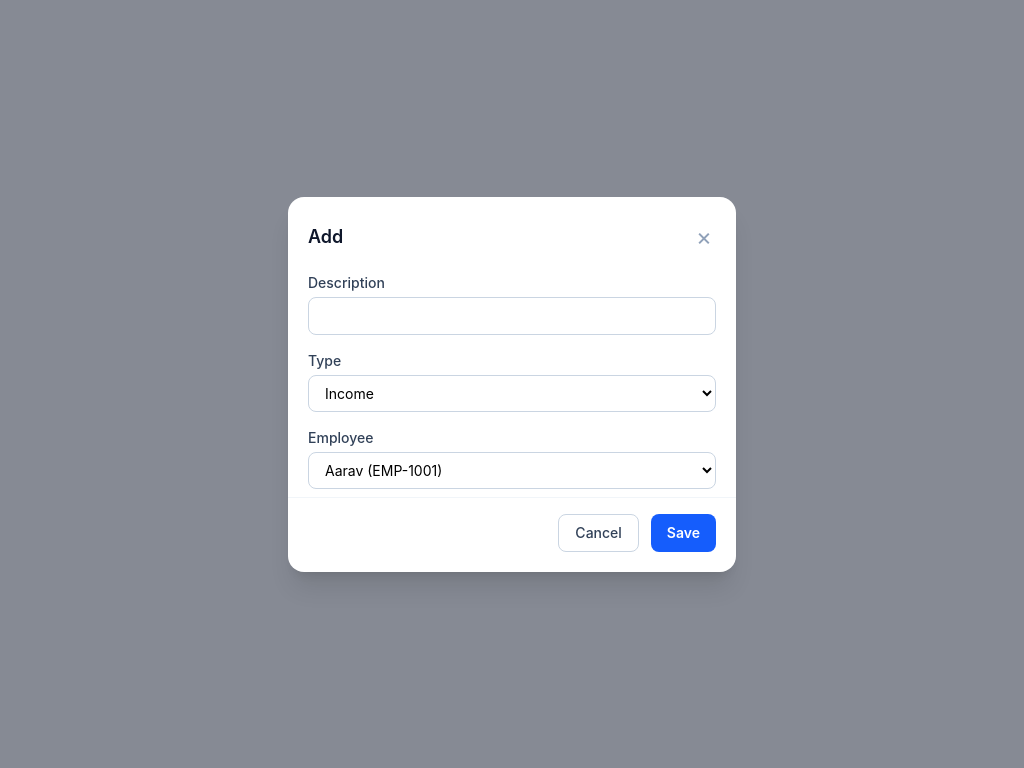
FormModal › keeps the dialog open and shows the server's error when saving fails
The image size is (1024, 768).
Type "x" into the field labelled "Description" at (512, 316), box [308,296,716,334]
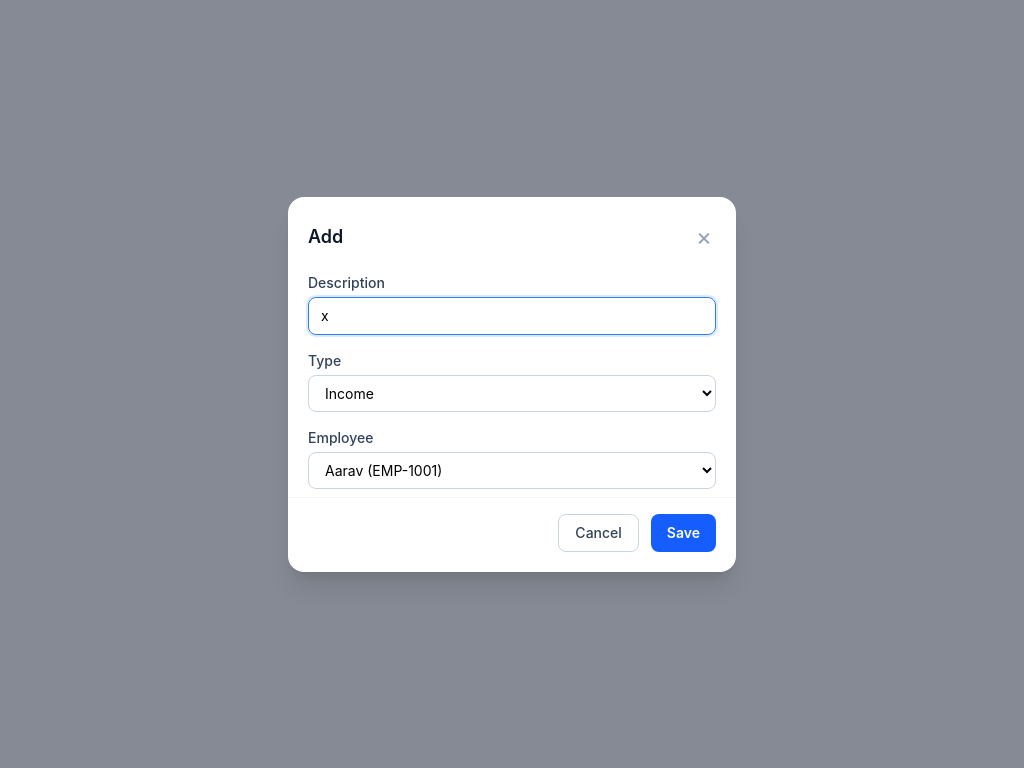
Click the button "Save" at (683, 532), box [651,514,716,552]
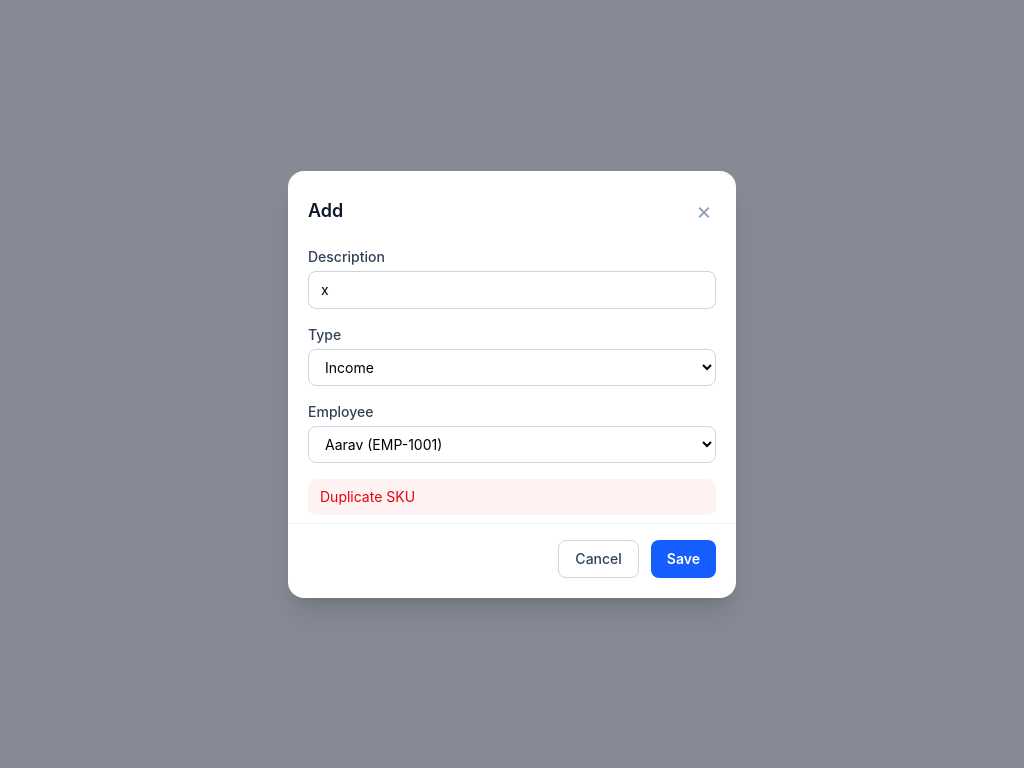
Expected: the button "Save" is enabled, [651,540,716,578]
Now the message reads "Duplicate SKU", box [320,488,415,504]
